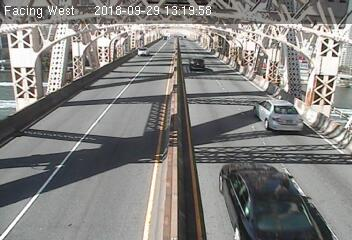car: (212, 161, 339, 240), (249, 97, 315, 138), (186, 55, 208, 76), (135, 45, 153, 58)
